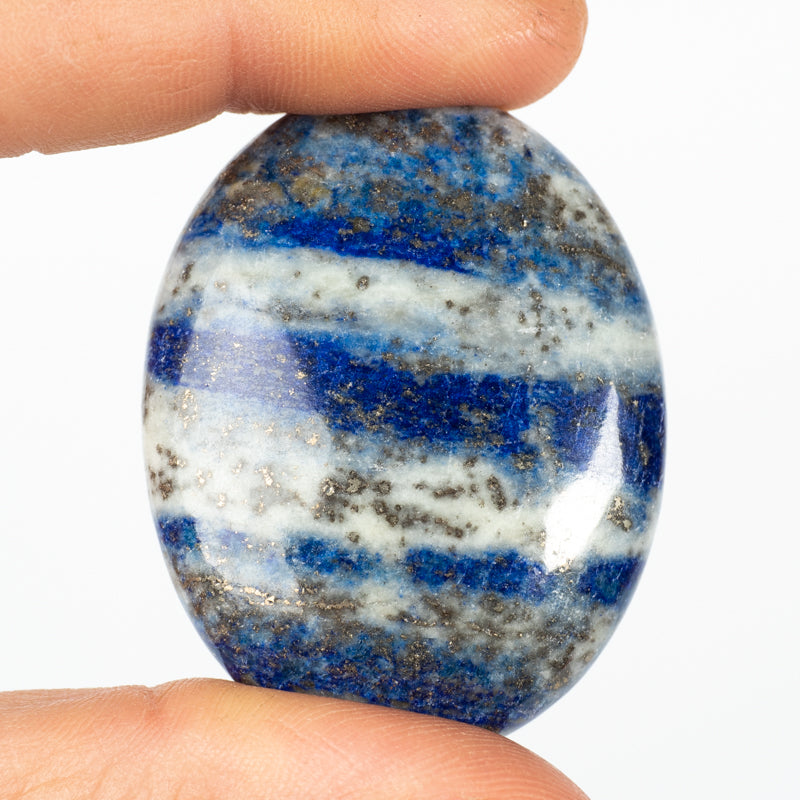Lapis_Lazuli: (135, 124, 679, 684)
